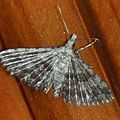Alucitidae: (1, 31, 114, 106)
moth: (1, 33, 114, 108)
